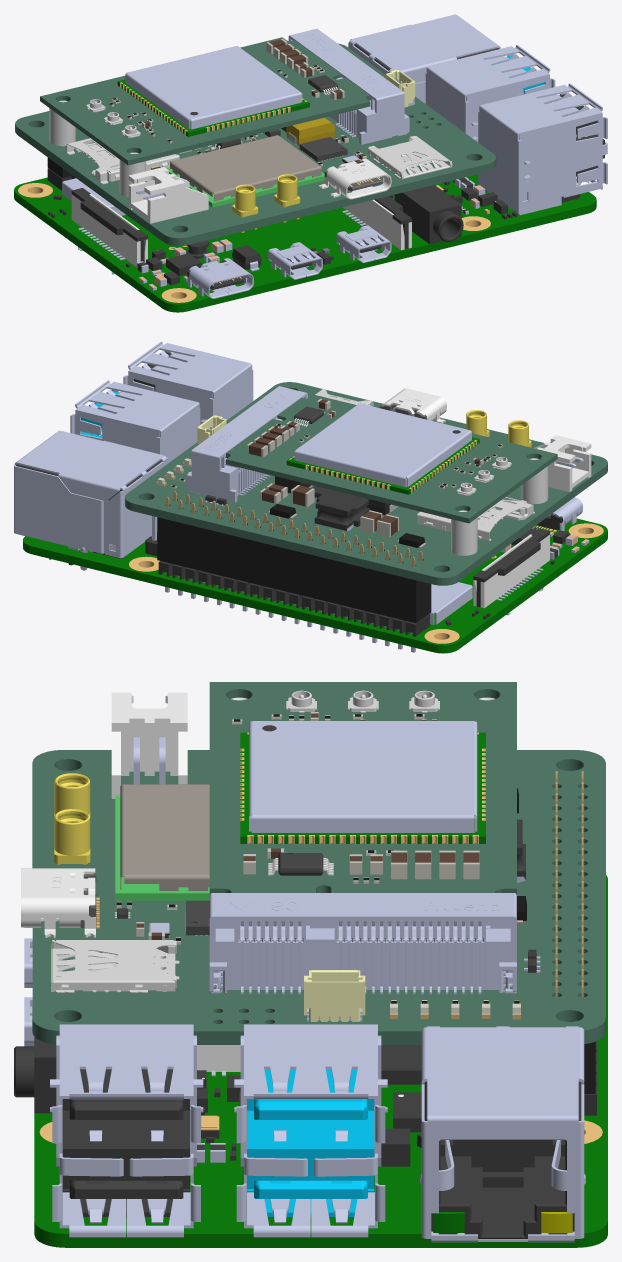
File: hat_variant_3.glb
3 views of the same model, one above another, from view 1: azimuth 30°, elevation 25°; view 2: azimuth 150°, elevation 25°; view 3: azimuth 270°, elevation 25° (orthographic). The views are drawn at different scales.
Parts seen in each view (by area): view 1: U1 (×2), NAUO220, =>[0:1:1:43], NAUO100, =>[0:1:1:9], NAUO96, NAUO299, NAUO55, =>[0:1:1:2] (×3), J9, NAUO198, J10 (+17 smaller); view 2: =>[0:1:1:43], NAUO299, J1, =>[0:1:1:9], NAUO220, U1, NAUO96, NAUO100, NAUO55, NAUO5, J9, J3 (×2) (+12 smaller); view 3: =>[0:1:1:43], U1 (×2), =>[0:1:1:9], NAUO55, NAUO299, NAUO220, NAUO96, NAUO100, NAUO99, NAUO75, NAUO64, J10 (+13 smaller).
Part boxes in pixels (<box>): U1 (×2): <box>117,46,324,207</box>; NAUO220: <box>14,174,596,312</box>; =>[0:1:1:43]: <box>15,43,496,245</box>; NAUO100: <box>478,83,607,215</box>; =>[0:1:1:9]: <box>40,37,370,165</box>; NAUO96: <box>425,44,555,142</box>; NAUO299: <box>348,14,500,103</box>; NAUO55: <box>288,28,409,144</box>; =>[0:1:1:2] (×3): <box>66,117,347,184</box>; J9: <box>128,167,208,223</box>; NAUO198: <box>394,185,463,244</box>; J10: <box>367,135,452,179</box>; =>[0:1:1:43]: <box>125,382,607,585</box>; NAUO299: <box>14,430,167,570</box>; J1: <box>157,491,431,623</box>; =>[0:1:1:9]: <box>225,394,557,523</box>; NAUO220: <box>23,518,607,653</box>; U1: <box>286,403,479,494</box>; NAUO96: <box>70,380,200,463</box>; NAUO100: <box>123,341,253,424</box>; NAUO55: <box>186,386,307,502</box>; NAUO5: <box>158,561,429,636</box>; J9: <box>534,435,591,491</box>; J3 (×2): <box>451,458,548,555</box>; =>[0:1:1:43]: <box>32,750,605,1044</box>; U1 (×2): <box>115,721,485,900</box>; =>[0:1:1:9]: <box>209,682,516,895</box>; NAUO55: <box>209,893,516,992</box>; NAUO299: <box>420,1026,585,1242</box>; NAUO220: <box>34,875,607,1247</box>; NAUO96: <box>234,1024,387,1237</box>; NAUO100: <box>50,1024,203,1237</box>; NAUO99: <box>62,1069,189,1216</box>; NAUO75: <box>247,1069,374,1216</box>; NAUO64: <box>424,1081,581,1238</box>; J10: <box>51,940,179,992</box>.
Bounding box in the file's own units: 0.0878 × 0.0266 × 0.058.
